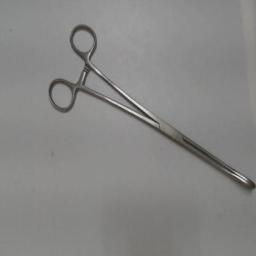Sponge Forceps: (42, 16, 256, 194)
